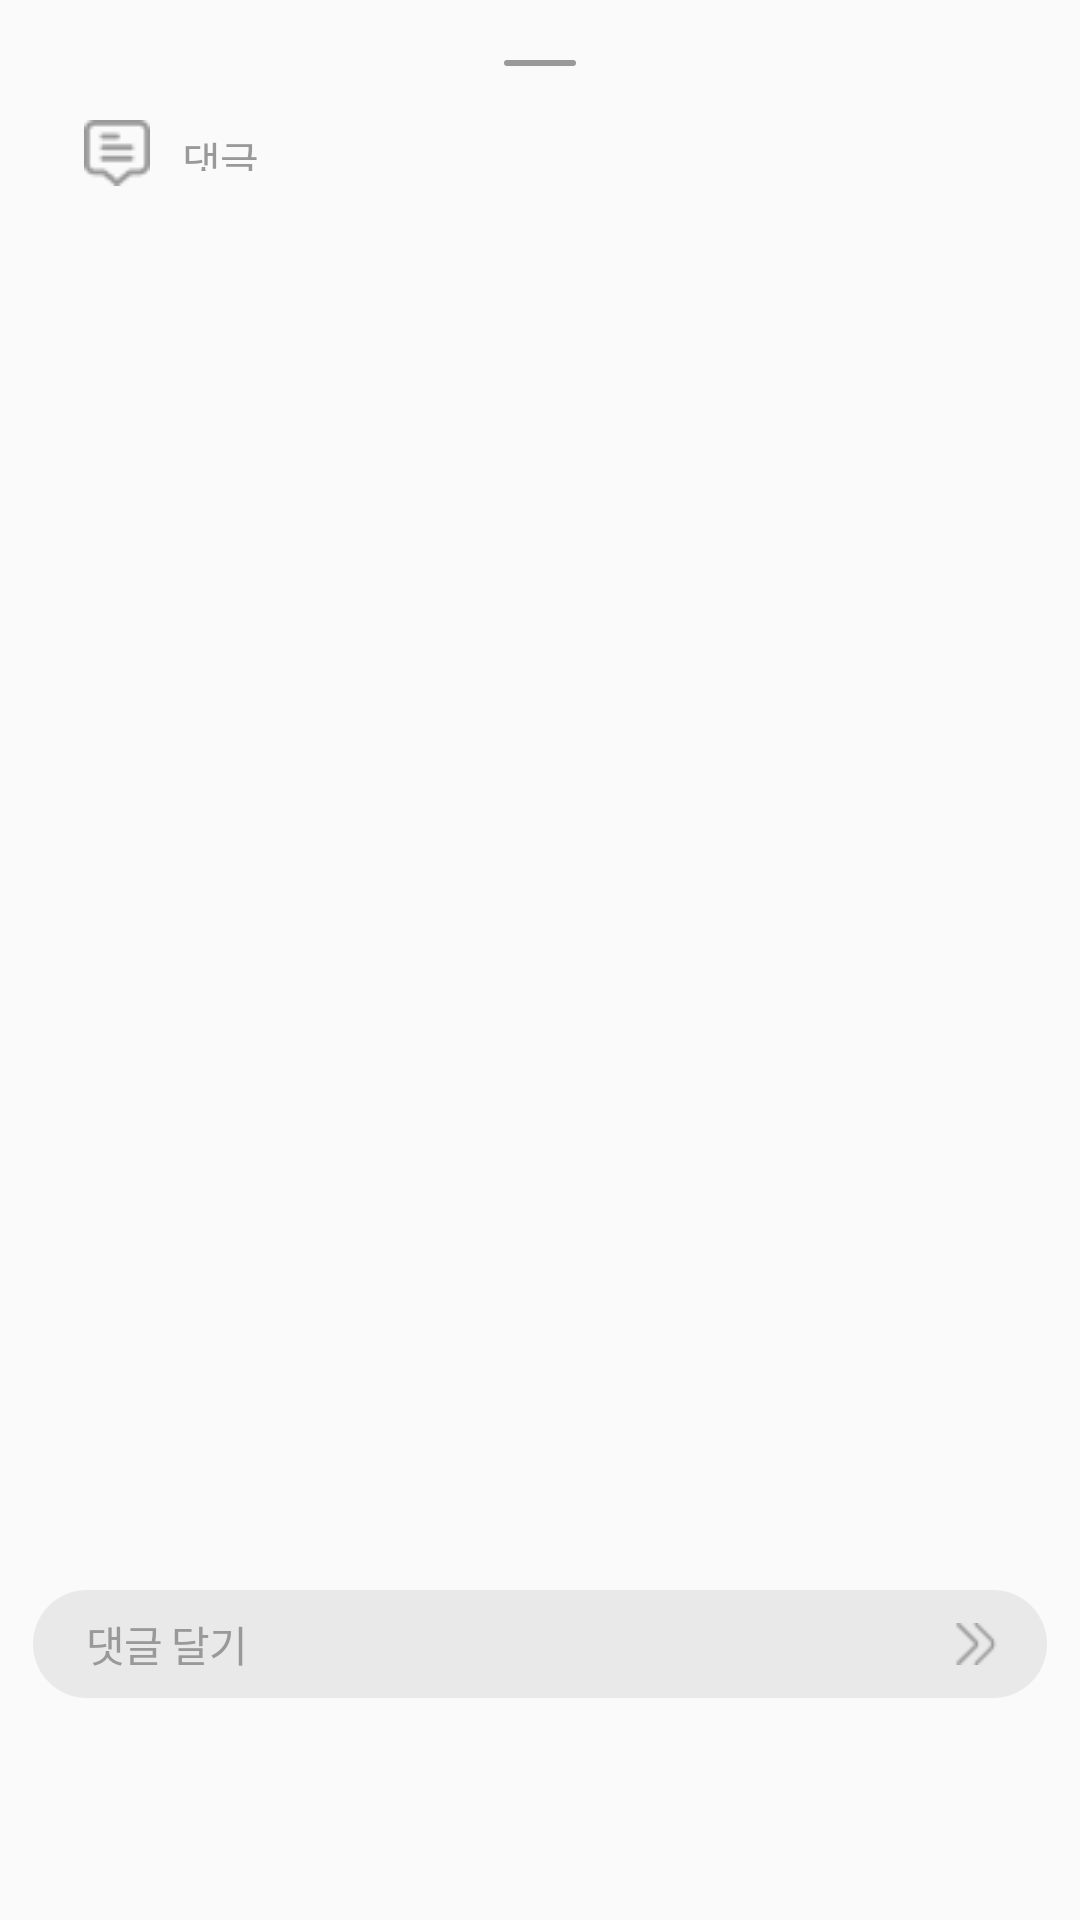

Screen size 1080 × 1920. Icon name, then its center in pixels as [x,y]:
comment: [117,153]
